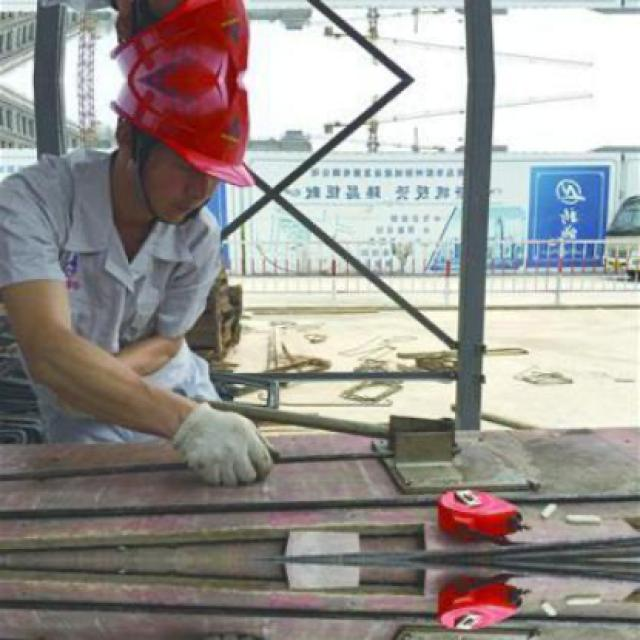con casco: (95, 60, 319, 214)
